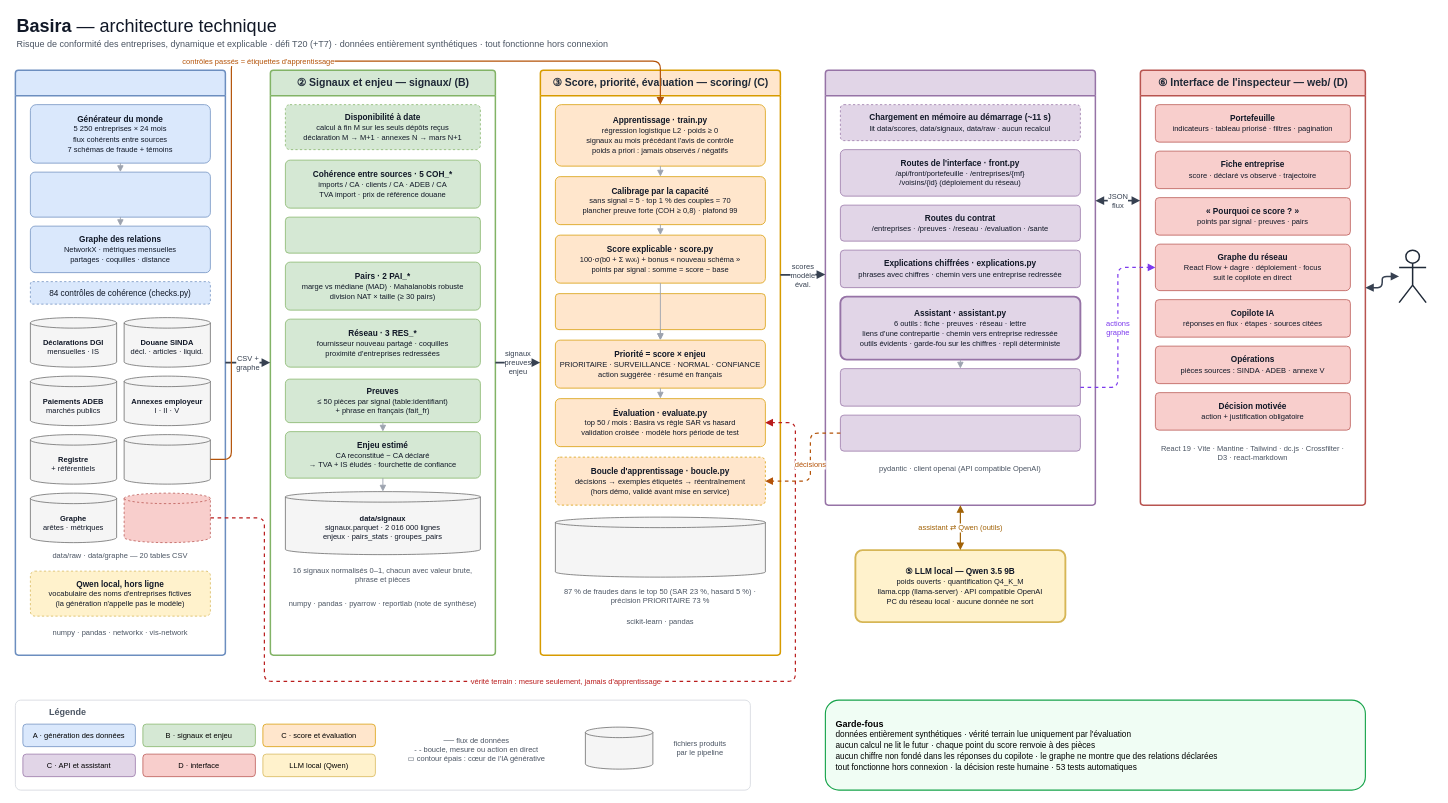
Image size: 1448x803. Some labels were removed from this diagram. Each missing label, with the box of its shape:
Changement · 6 CHG_* EWMA α = 0,3 vs 10 mois de référence (z-score): (285, 216, 480, 253)
Contrôles passés 276 (étiquettes): (123, 434, 210, 484)
Contrôles passés sélection biaisée (règle type SAR) résultats bruités: (30, 171, 210, 217)
data/scores scores.parquet · modele.json evaluation.json · enjeux.parquet: (555, 516, 765, 577)
Décisions · decisions.py POST /decision → decisions.csv (journal): (840, 414, 1080, 451)
Enjeu complété · enjeux.py douane sous-évaluée · imports excédentaires: (555, 293, 765, 330)
fichier / table: (585, 726, 653, 769)
Inspecteur décide: (1398, 249, 1426, 303)
POST /api/assistant/flux (SSE) étape → action sur le graphe → réponse: (840, 368, 1080, 406)
Vérité terrain (cachée): (123, 492, 210, 543)
① Données synthétiques — generation/ (A): (14, 69, 226, 656)
④ API — api/ (C · FastAPI + Uvicorn): (824, 69, 1096, 506)
